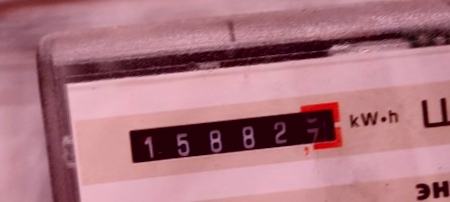1: (141, 130, 158, 159)
2: (272, 116, 290, 146)
5: (173, 127, 194, 156)
7: (304, 123, 322, 141)
8: (206, 124, 225, 154), (240, 120, 257, 150)
screen: (114, 91, 354, 176)
